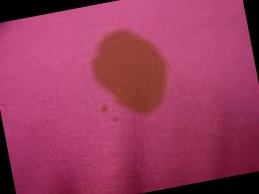oil: (86, 21, 180, 128)
